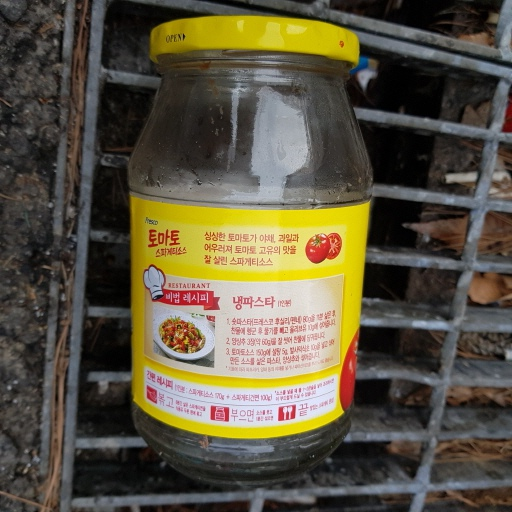Glass_5: (122, 15, 376, 484)
